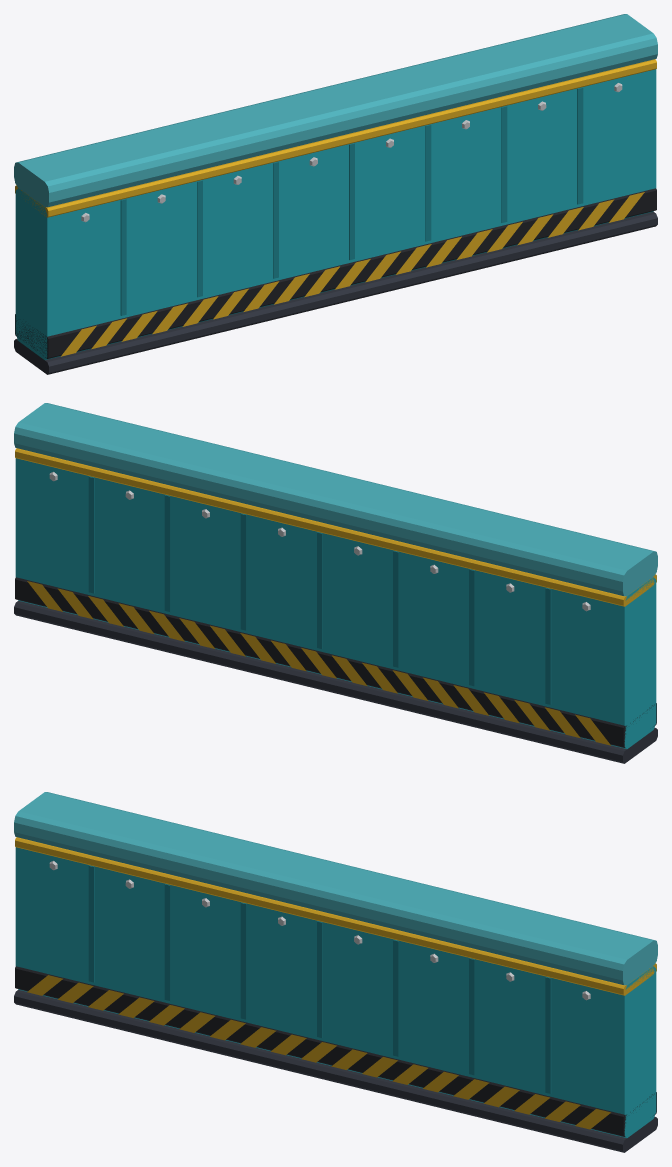
The model's file is toy-wall2.glb.
3 renders of one model, top to bottom at view 1: azimuth 30°, elevation 25°; view 2: azimuth 150°, elevation 25°; view 3: azimuth 330°, elevation 25°, orthographic.
Visible parts, largest first — view 1: toy-wall2; view 2: toy-wall2; view 3: toy-wall2.
Boxes of the visible parts, <box> form: toy-wall2: <box>14,14,657,374</box>; toy-wall2: <box>14,403,657,763</box>; toy-wall2: <box>14,792,657,1152</box>.
Bounding box in the file's own units: 4 × 1.2 × 0.4.
